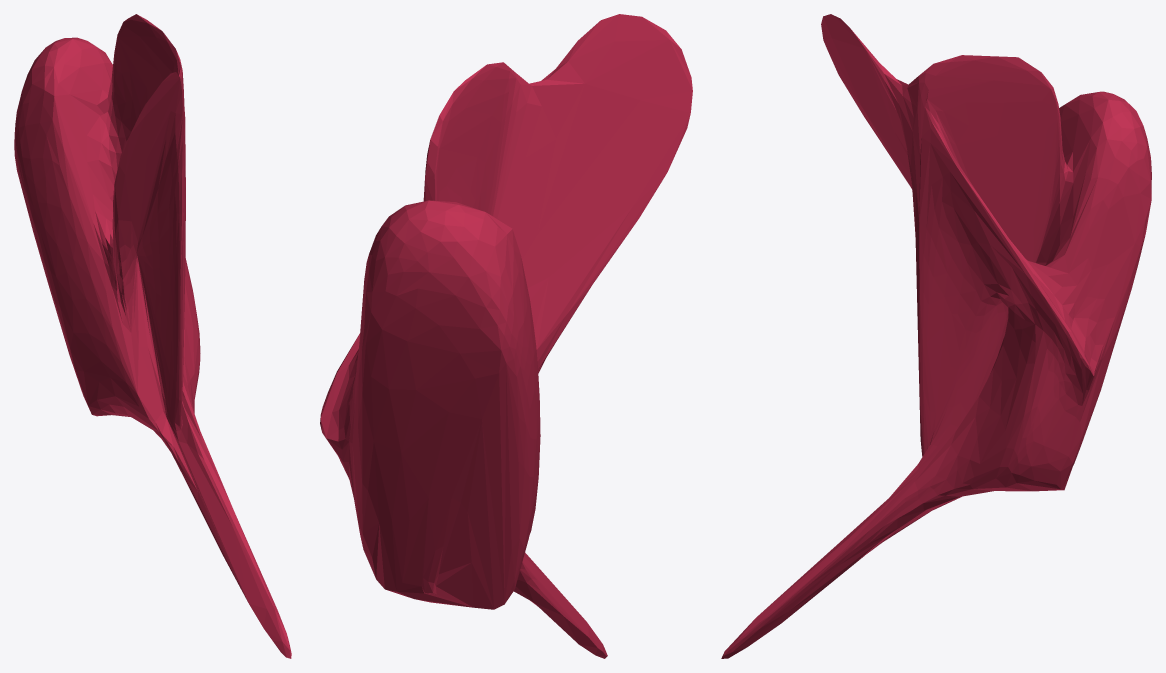
The picture shows the model from 3 angles, left to right: view 1: azimuth 30°, elevation 25°; view 2: azimuth 150°, elevation 25°; view 3: azimuth 270°, elevation 25°; orthographic projection. The views are drawn at different scales.
Parts seen in each view (by area): view 1: 539_Cube.2175; view 2: 539_Cube.2175; view 3: 539_Cube.2175.
Part boxes in pixels (<box>): 539_Cube.2175: <box>14,14,291,658</box>; 539_Cube.2175: <box>320,14,692,658</box>; 539_Cube.2175: <box>721,14,1151,658</box>.
Size of the model in its own units: 5.54 by 17.07 by 10.99.
